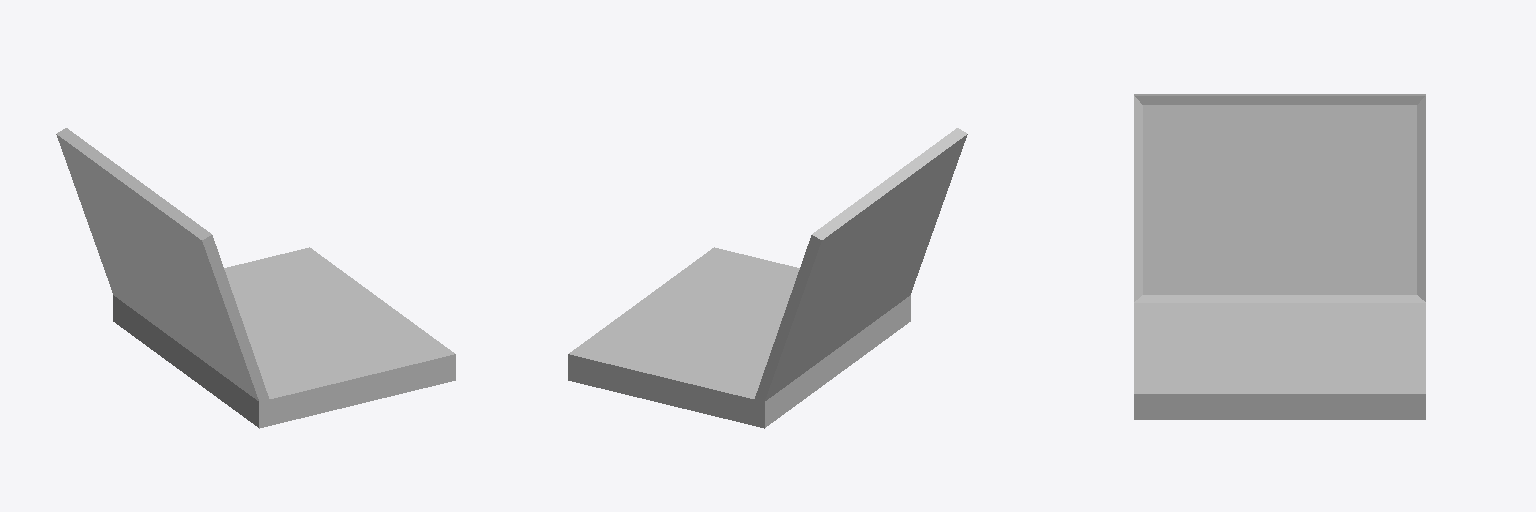
The model's file is laptop2.obj.
3 views of the same model, side by side, from view 1: azimuth 30°, elevation 25°; view 2: azimuth 150°, elevation 25°; view 3: azimuth 270°, elevation 25° (orthographic).
Parts seen in each view (by area): view 1: Cube; view 2: Cube; view 3: Cube.
Part boxes in pixels (x1,y1,x2,y2): Cube: (56,128,455,428); Cube: (568,128,967,428); Cube: (1134,94,1425,419).
Bounding box in the file's own units: 2.58 × 2.01 × 2.57.